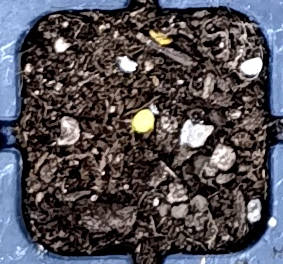pepper seed: (52, 40, 209, 175), (59, 4, 235, 51)
